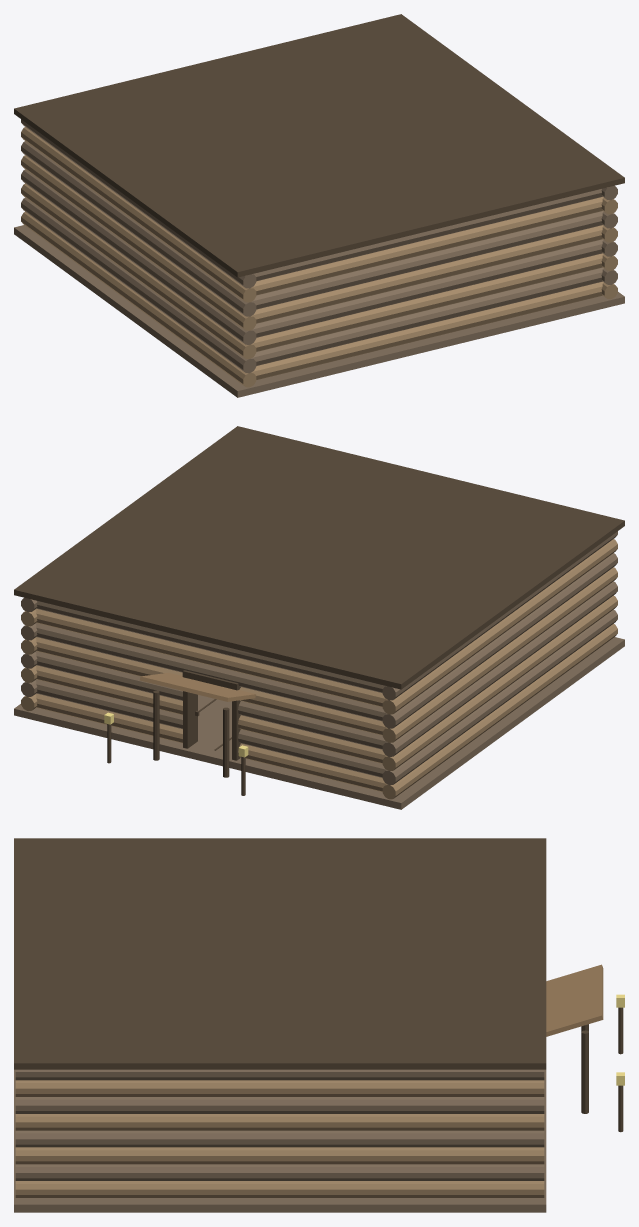
File: hut_shell.fbx
The picture shows the model from 3 angles, top to bottom: view 1: azimuth 30°, elevation 25°; view 2: azimuth 150°, elevation 25°; view 3: azimuth 270°, elevation 25°; orthographic projection. The views are drawn at different scales.
Parts seen in each view (by area): view 1: hut_shell; view 2: hut_shell; view 3: hut_shell.
Part boxes in pixels (<box>): hut_shell: <box>14,14,624,397</box>; hut_shell: <box>14,426,624,809</box>; hut_shell: <box>14,838,624,1212</box>.
Size of the model in its own units: 15 by 4.65 by 17.22.
